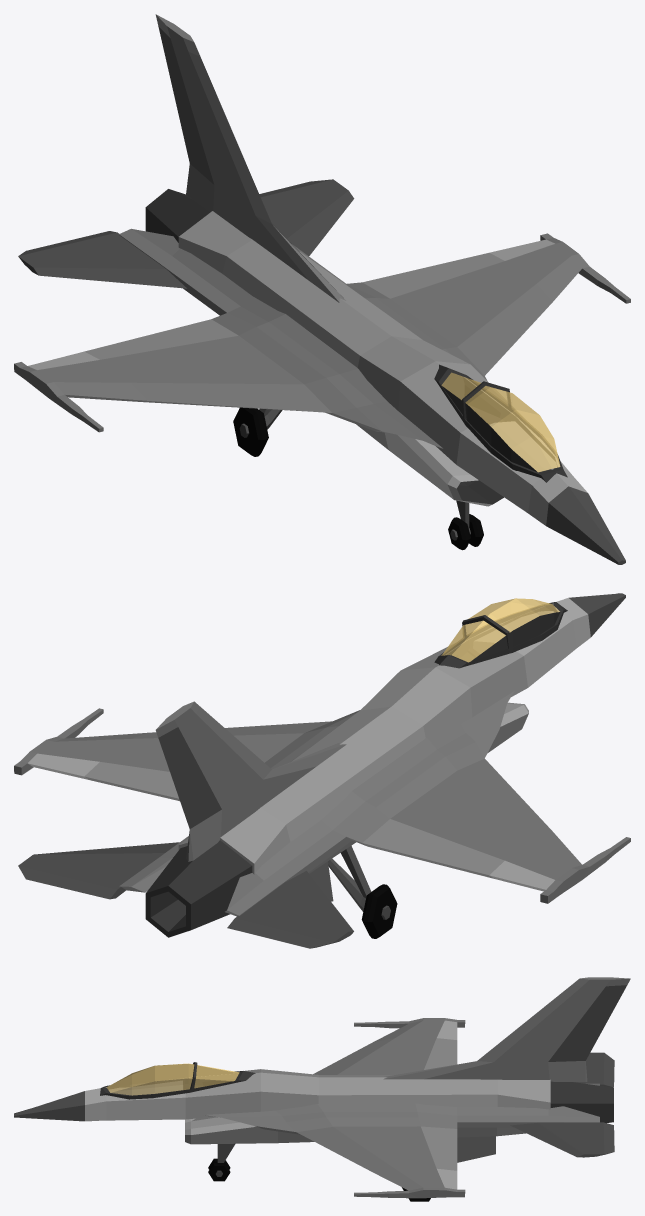
The picture shows the model from 3 angles, top to bottom: view 1: azimuth 30°, elevation 25°; view 2: azimuth 150°, elevation 25°; view 3: azimuth 270°, elevation 25°; orthographic projection. The views are drawn at different scales.
Parts seen in each view (by area): view 1: Plane_7, Cylinder_3, Plane.001_8, Plane.003_10, Cylinder.003_6, Plane.005_12, Cylinder.001_4, Cylinder.002_5, Plane.004_11, Cylinder.004_15, Plane.006_13, Cylinder.005_14; view 2: Plane_7, Cylinder_3, Plane.003_10, Plane.001_8, Cylinder.002_5, Plane.005_12, Cylinder.003_6, Plane.004_11, Cylinder.004_15, Plane.006_13, Cylinder.001_4; view 3: Plane_7, Cylinder_3, Plane.001_8, Cylinder.003_6, Plane.003_10, Cylinder.001_4, Plane.004_11, Plane.005_12, Cylinder.002_5, Plane.002_9, Plane.006_13, Cylinder.005_14.
Boxes of the visible parts, left/top/right/bottom form: Plane_7: left=14, top=228, right=630, bottom=448; Cylinder_3: left=178, top=211, right=625, bottom=564; Plane.001_8: left=155, top=14, right=345, bottom=302; Plane.003_10: left=18, top=179, right=354, bottom=288; Cylinder.003_6: left=434, top=364, right=567, bottom=482; Plane.005_12: left=84, top=252, right=504, bottom=359; Cylinder.001_4: left=356, top=424, right=503, bottom=506; Cylinder.002_5: left=145, top=189, right=209, bottom=242; Plane.004_11: left=158, top=26, right=214, bottom=184; Cylinder.004_15: left=233, top=407, right=282, bottom=456; Plane.006_13: left=28, top=239, right=554, bottom=369; Cylinder.005_14: left=448, top=500, right=483, bottom=550; Plane_7: left=14, top=691, right=630, bottom=916; Cylinder_3: left=178, top=593, right=625, bottom=874; Plane.003_10: left=18, top=842, right=353, bottom=948; Plane.001_8: left=155, top=701, right=346, bottom=861; Cylinder.002_5: left=145, top=840, right=252, bottom=937; Plane.005_12: left=84, top=762, right=504, bottom=878; Cylinder.003_6: left=434, top=598, right=567, bottom=668; Plane.004_11: left=158, top=727, right=221, bottom=828; Cylinder.004_15: left=328, top=845, right=397, bottom=938; Plane.006_13: left=27, top=753, right=554, bottom=891; Cylinder.001_4: left=308, top=702, right=528, bottom=873; Plane_7: left=203, top=1018, right=599, bottom=1198; Cylinder_3: left=14, top=1069, right=550, bottom=1121; Plane.001_8: left=383, top=977, right=630, bottom=1081; Cylinder.003_6: left=100, top=1062, right=255, bottom=1099; Plane.003_10: left=510, top=1052, right=614, bottom=1157; Cylinder.001_4: left=185, top=1117, right=525, bottom=1144; Plane.004_11: left=548, top=985, right=627, bottom=1061; Plane.005_12: left=421, top=1038, right=457, bottom=1170; Cylinder.002_5: left=550, top=1081, right=613, bottom=1123; Plane.002_9: left=457, top=1136, right=495, bottom=1162; Plane.006_13: left=437, top=1020, right=457, bottom=1189; Cylinder.005_14: left=208, top=1143, right=235, bottom=1181.
Size of the model in its own units: 176 by 96.13 by 267.
